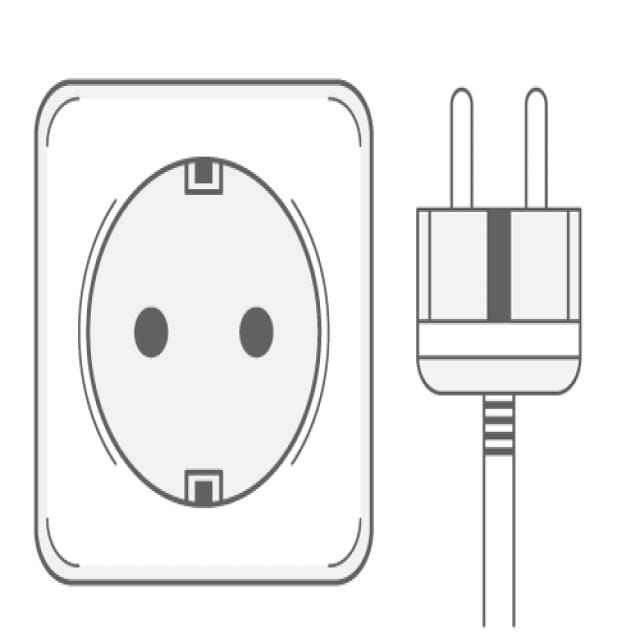typeb: (13, 73, 385, 606)
